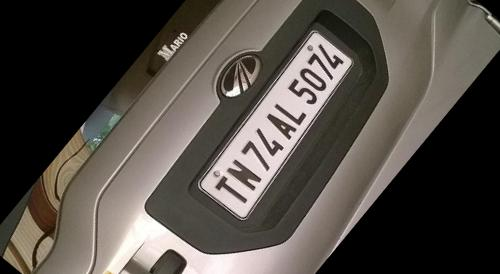plate: (188, 22, 372, 223)
